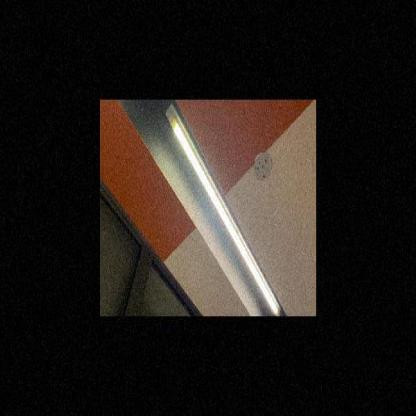light_on: (160, 101, 284, 316)
